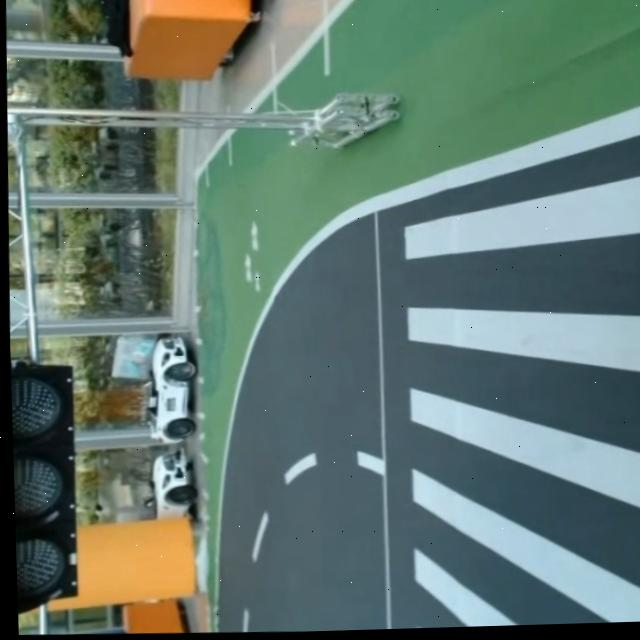traffic-light: (11, 363, 80, 615)
